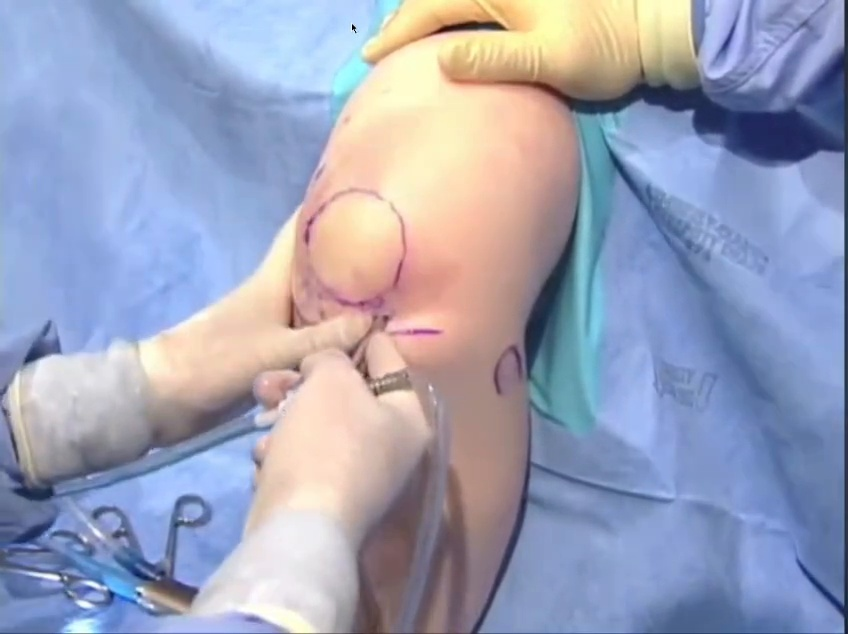arthroscope: (424, 15, 736, 634), (23, 132, 402, 504)
probe: (723, 142, 848, 622), (578, 0, 848, 134), (86, 141, 175, 235)
